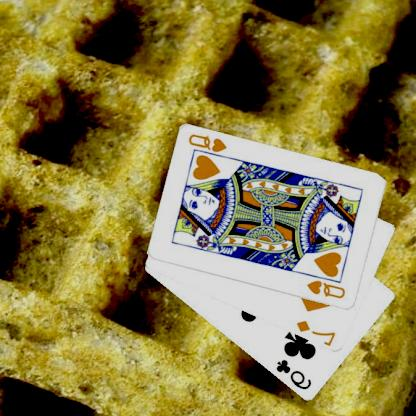6C: (274, 357, 314, 392)
7D: (295, 318, 339, 346)
QH: (188, 132, 233, 160), (306, 278, 349, 300)
